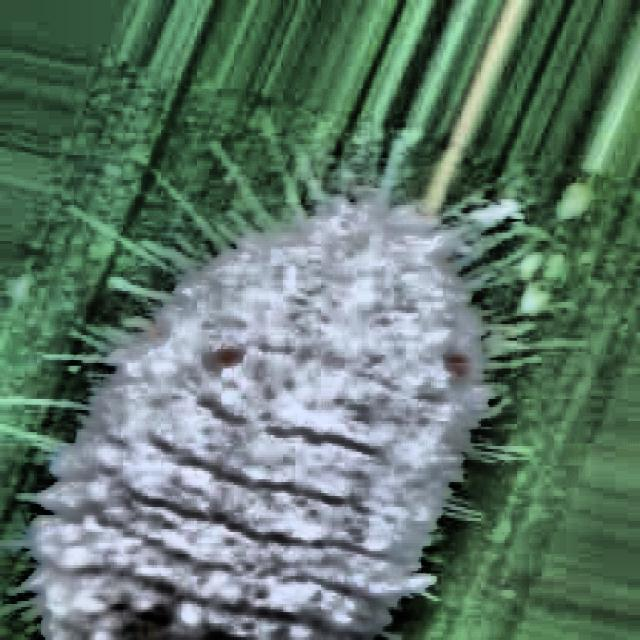Mealy-bug: (14, 154, 558, 638)
